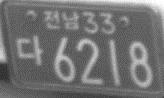1: (106, 36, 126, 87)
2: (75, 36, 103, 85)
3: (98, 11, 116, 35), (82, 10, 98, 34)
6: (52, 37, 76, 82)
8: (126, 40, 155, 90)
다: (15, 35, 44, 67)
전남_O: (43, 9, 80, 31)
